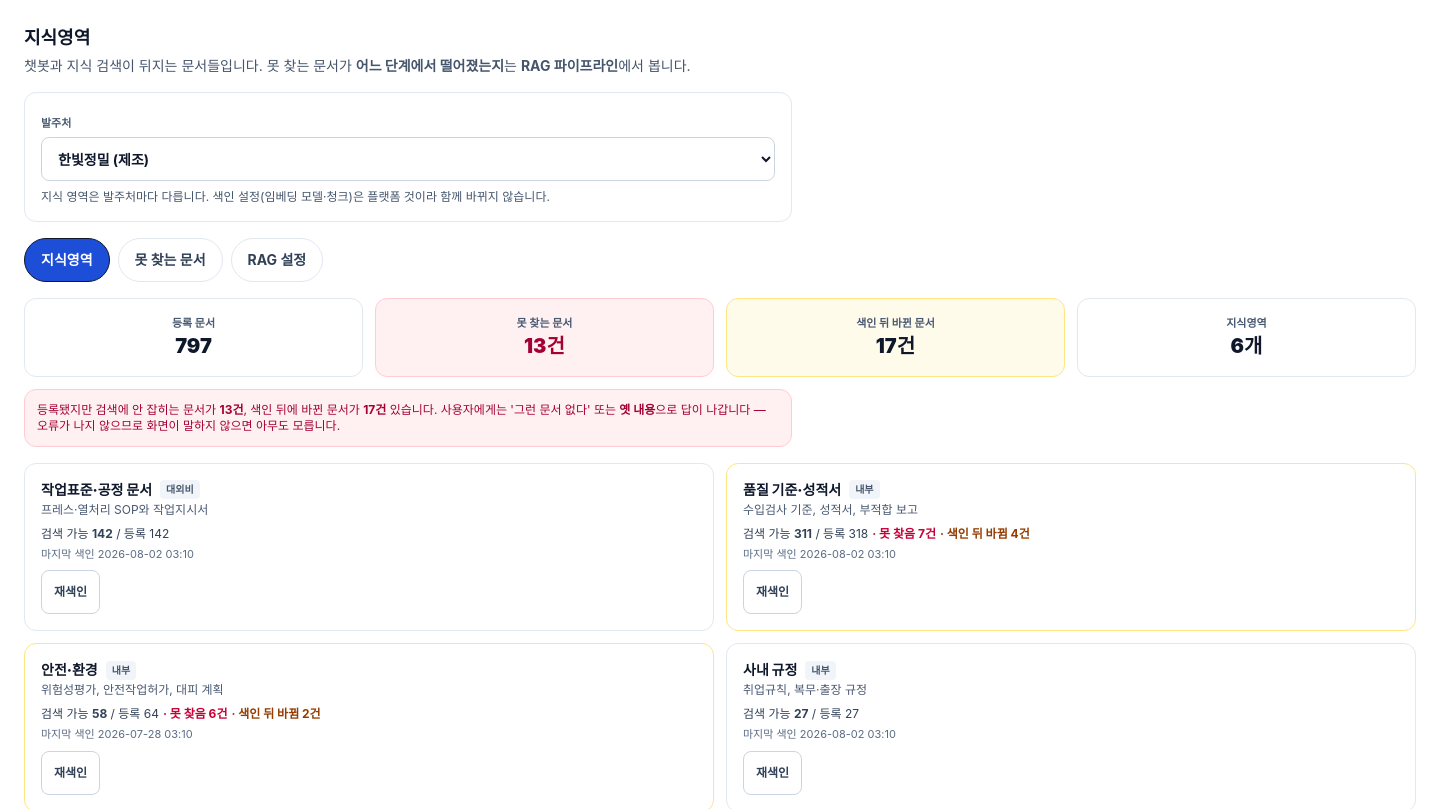
it: 못 찾는 문서 › 왜 못 찾는지 하나하나 적는다
Click the tab "못 찾는 문서".
click(170, 260)  # box [118,238,222,282]
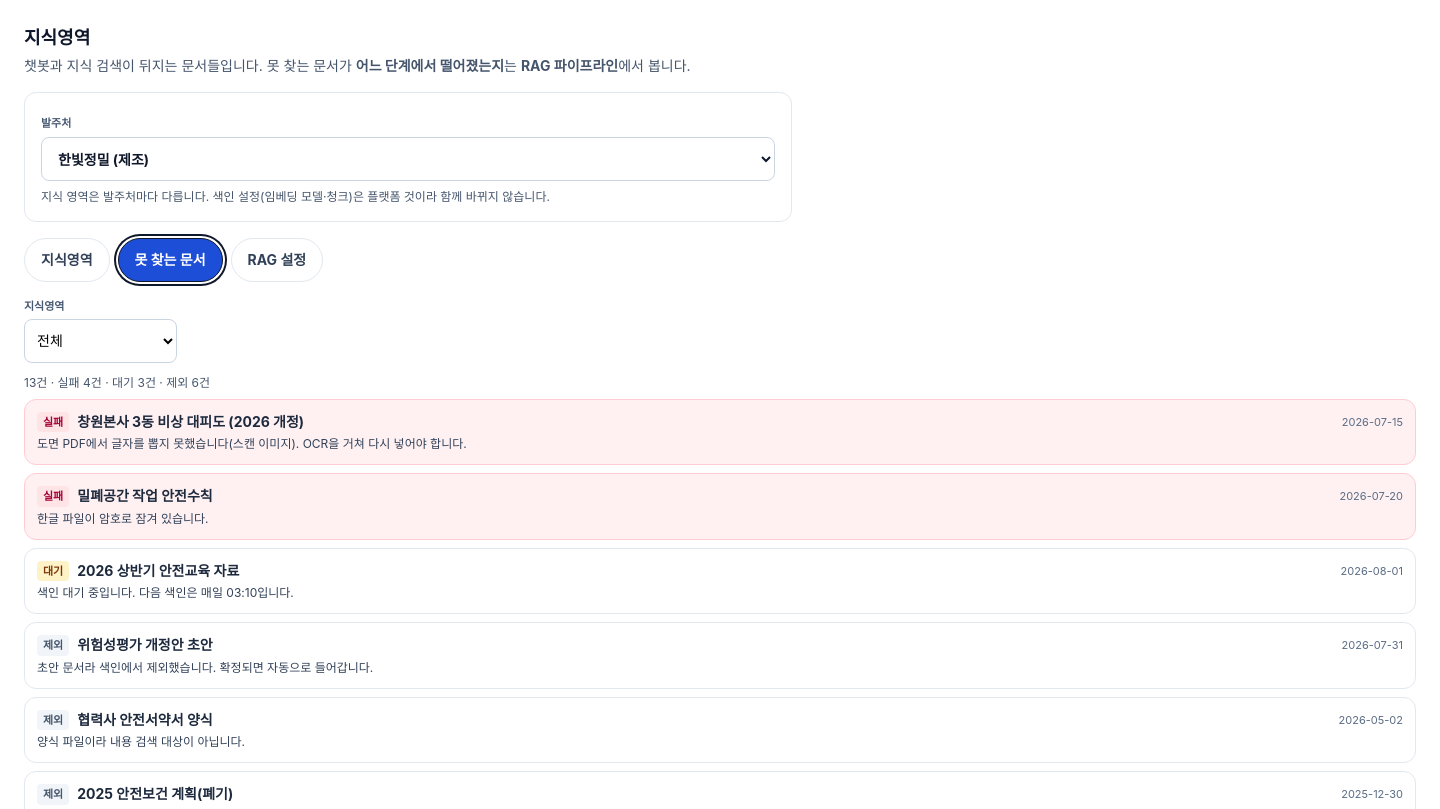
Expected: the text "도면 PDF에서 글자를 뽑지 못했습니다(스캔 이미지). OCR을 거쳐 다시 넣어야 합니다." is shown, [37,436,467,451]
Expected: the text "한글 파일이 암호로 잠겨 있습니다." is shown, [37,510,208,526]
